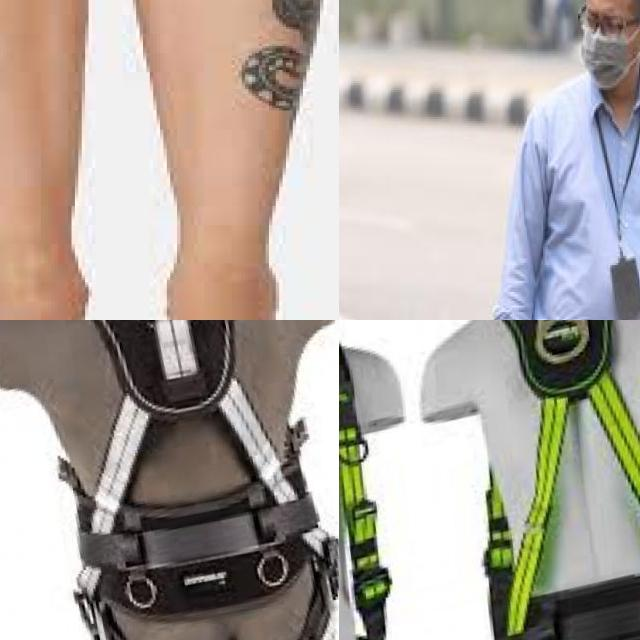Harness: (489, 320, 640, 640), (92, 320, 297, 534), (339, 344, 391, 640)
Sandals: (128, 273, 330, 320)
face_mask: (580, 7, 637, 90)
glasses: (576, 8, 630, 44)
person: (502, 0, 640, 320)
